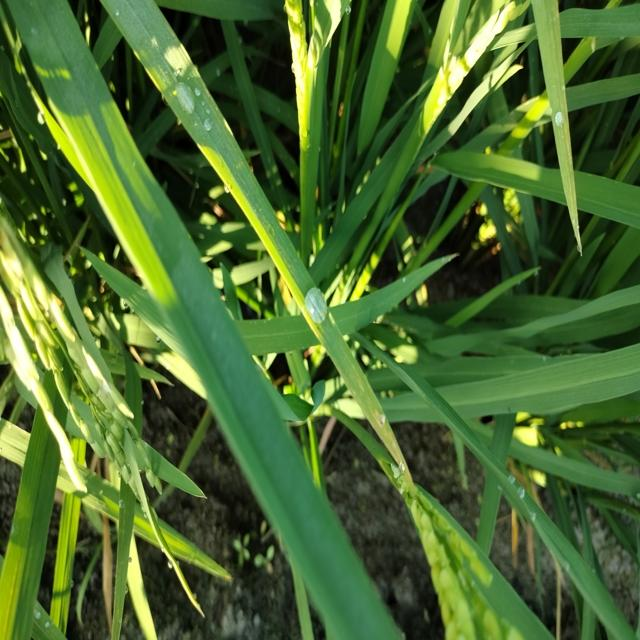healthy: (365, 398, 430, 491)
